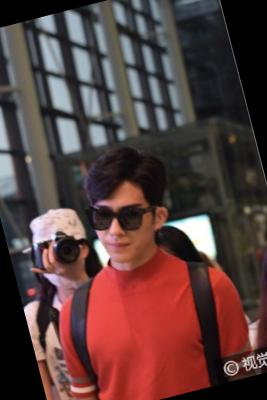without_mask: (89, 189, 163, 267)
